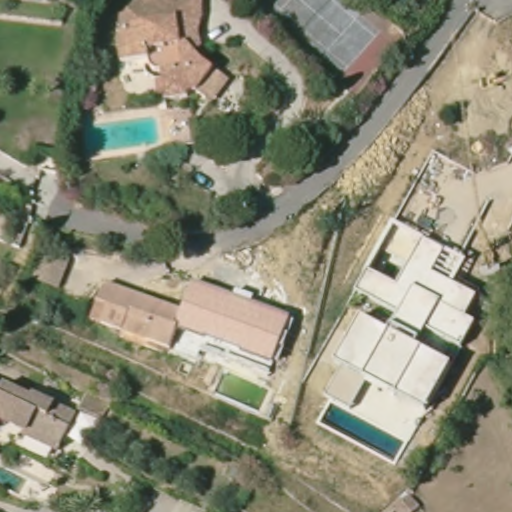pool: (315, 403, 408, 465), (81, 111, 161, 159)
